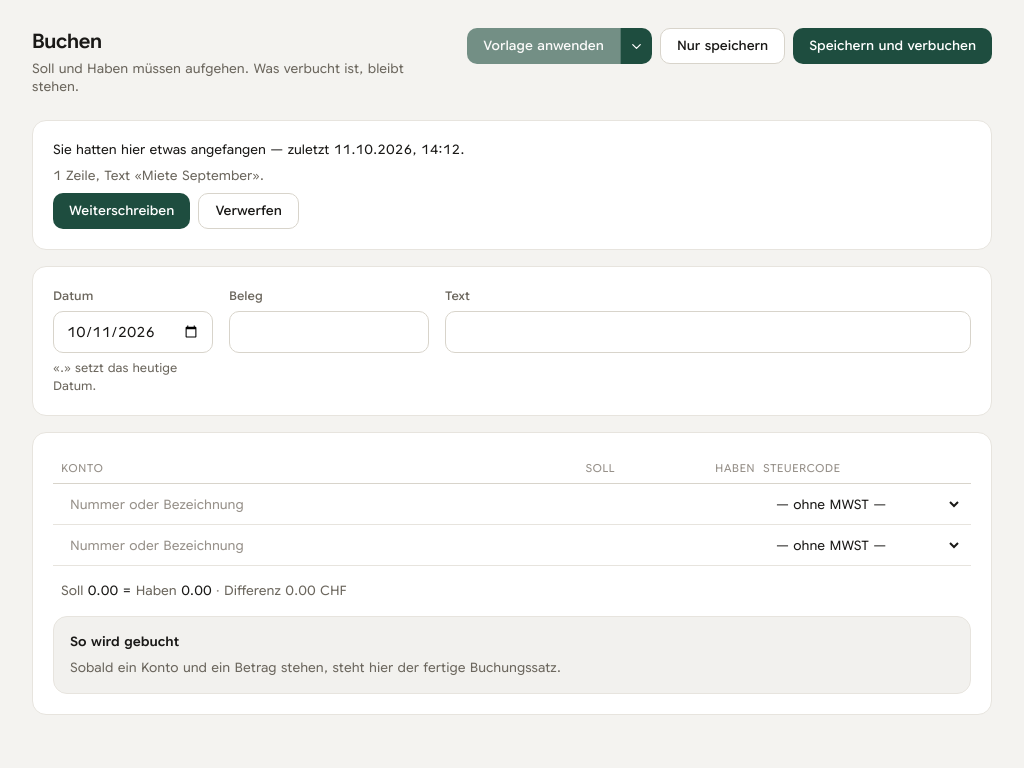
the entry mask around the grid › rescueStateTest
Click the button "Weiterschreiben".
click(122, 211)  # box [53,193,190,229]
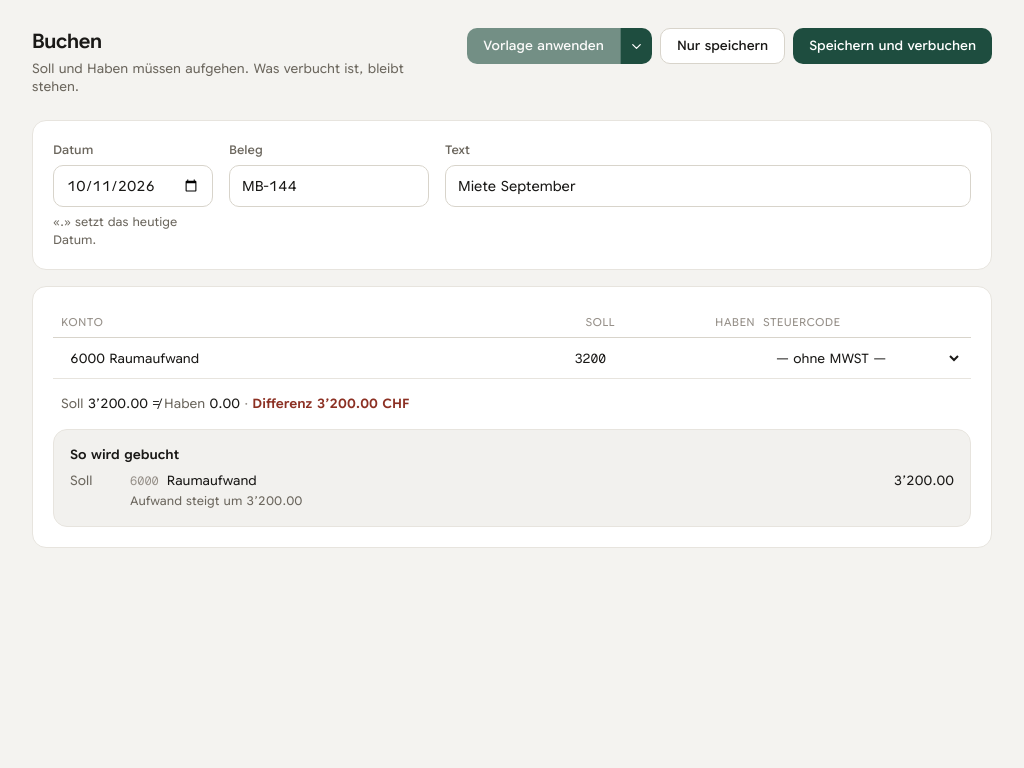
Expected: the text "Sie hatten hier etwas angefangen" is gone
